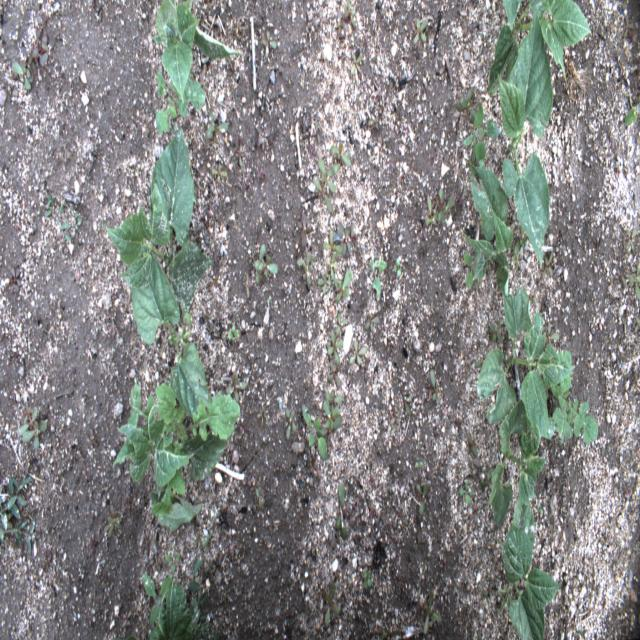crop: (108, 127, 219, 416), (107, 378, 249, 534), (476, 282, 601, 452), (498, 12, 552, 271), (150, 0, 242, 138), (486, 1, 598, 96), (484, 399, 545, 541), (462, 157, 520, 302), (502, 526, 561, 635), (138, 550, 202, 638), (460, 100, 500, 157)
weed: (0, 476, 39, 550), (298, 402, 330, 464), (57, 200, 91, 247), (19, 407, 48, 462), (311, 154, 339, 209), (24, 24, 56, 70), (191, 527, 215, 582), (364, 251, 387, 308), (331, 262, 357, 308), (293, 240, 316, 292), (320, 388, 344, 436), (324, 575, 344, 631), (253, 242, 277, 285), (102, 504, 125, 544), (336, 216, 359, 255), (280, 405, 302, 445), (336, 482, 350, 544), (419, 596, 443, 632), (325, 331, 345, 372), (203, 115, 232, 143), (369, 116, 390, 151), (454, 86, 474, 121), (330, 145, 353, 175), (427, 369, 445, 406), (350, 341, 372, 371), (40, 190, 59, 224), (227, 366, 250, 394), (464, 429, 482, 464), (255, 120, 276, 150), (13, 63, 33, 94), (624, 265, 638, 309), (412, 480, 430, 514), (439, 188, 457, 222), (323, 360, 345, 385), (225, 314, 240, 350), (315, 264, 330, 299), (298, 215, 314, 247), (210, 159, 230, 184), (332, 7, 349, 36), (400, 388, 414, 423), (413, 16, 429, 45), (360, 568, 374, 600), (262, 30, 276, 62), (365, 306, 382, 332), (324, 227, 341, 253), (456, 482, 476, 504), (342, 0, 356, 28), (626, 96, 638, 127), (425, 196, 437, 226), (313, 112, 324, 144), (325, 254, 338, 278), (349, 53, 364, 72), (392, 257, 404, 279), (336, 312, 346, 334), (628, 226, 636, 252), (255, 486, 263, 508), (257, 408, 267, 420)
